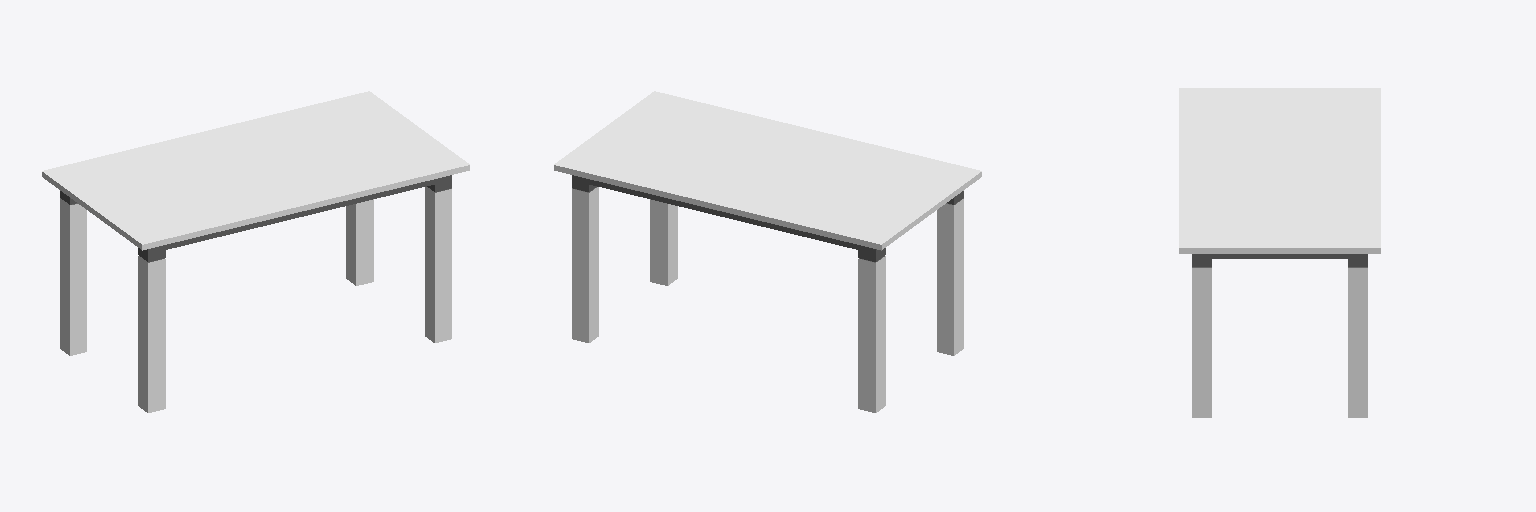
The model's file is tavolo_cucina.obj.
The picture shows the model from 3 angles: view 1: azimuth 30°, elevation 25°; view 2: azimuth 150°, elevation 25°; view 3: azimuth 270°, elevation 25°; orthographic projection.
Parts seen in each view (by area): view 1: woodred_woodred.jpg_woodred_woodred.jpg_woodred_woodred.j_woodre, alumain_alumain_alumain.001; view 2: woodred_woodred.jpg_woodred_woodred.jpg_woodred_woodred.j_woodre, alumain_alumain_alumain.001; view 3: woodred_woodred.jpg_woodred_woodred.jpg_woodred_woodred.j_woodre, alumain_alumain_alumain.001.
Boxes of the visible parts, <box> form: woodred_woodred.jpg_woodred_woodred.jpg_woodred_woodred.j_woodre: <box>42,91,469,412</box>; alumain_alumain_alumain.001: <box>60,175,451,262</box>; woodred_woodred.jpg_woodred_woodred.jpg_woodred_woodred.j_woodre: <box>554,91,981,412</box>; alumain_alumain_alumain.001: <box>572,175,963,262</box>; woodred_woodred.jpg_woodred_woodred.jpg_woodred_woodred.j_woodre: <box>1179,88,1380,417</box>; alumain_alumain_alumain.001: <box>1192,254,1367,267</box>.
Bounding box in the file's own units: 151 × 77.51 × 80.43.